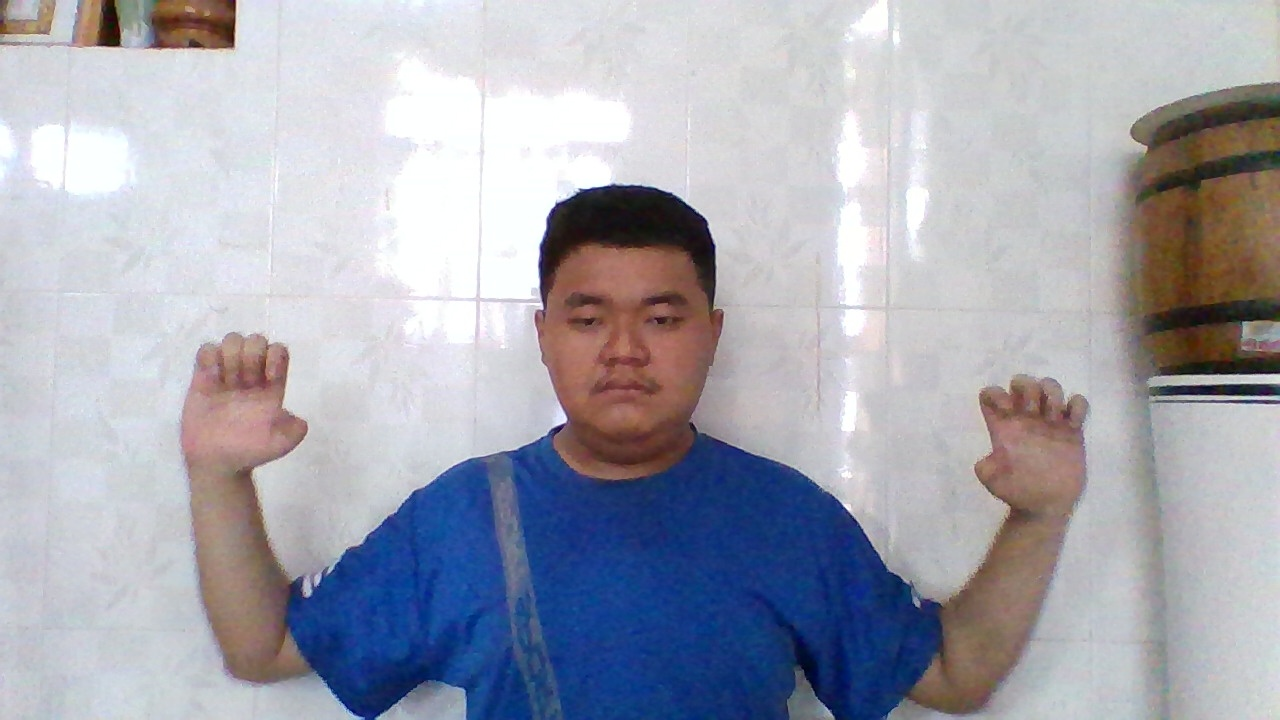E: (968, 363, 1098, 519), (188, 322, 315, 475)
